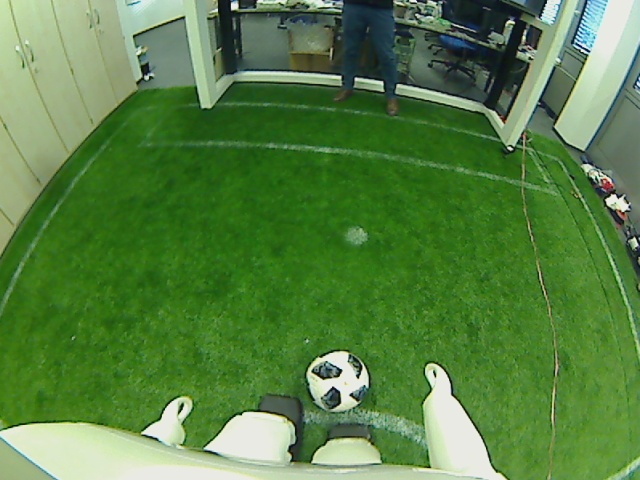ball: (304, 348, 372, 414)
